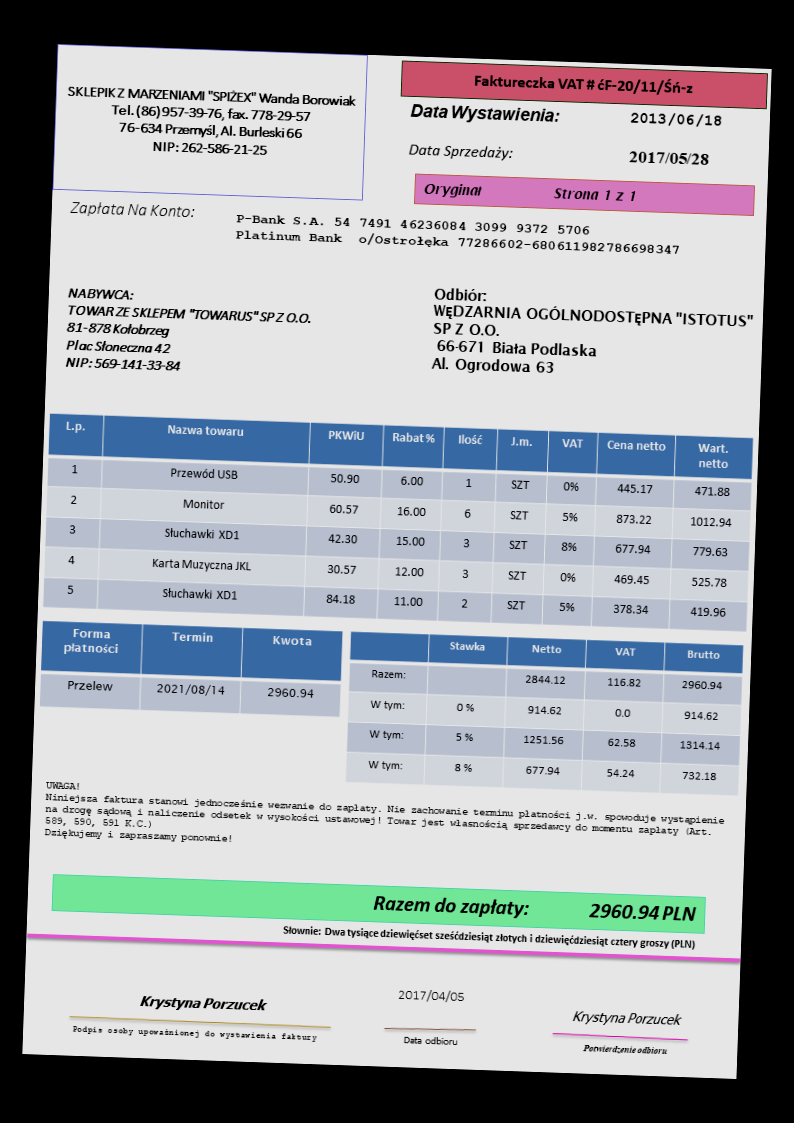Table: (41, 413, 755, 634), (344, 631, 746, 796), (37, 620, 343, 718)
TextBox: (41, 778, 727, 865), (430, 286, 757, 385), (63, 79, 358, 162), (61, 285, 316, 380), (232, 210, 684, 260), (280, 922, 697, 953), (370, 892, 698, 925), (472, 71, 696, 98), (70, 1022, 318, 1046), (424, 179, 641, 205), (409, 100, 562, 127), (67, 199, 198, 223), (138, 993, 269, 1017), (570, 1007, 684, 1030), (407, 142, 514, 163), (628, 109, 723, 131), (395, 983, 467, 1007), (628, 149, 709, 168), (582, 1042, 670, 1058), (402, 1032, 461, 1049)
